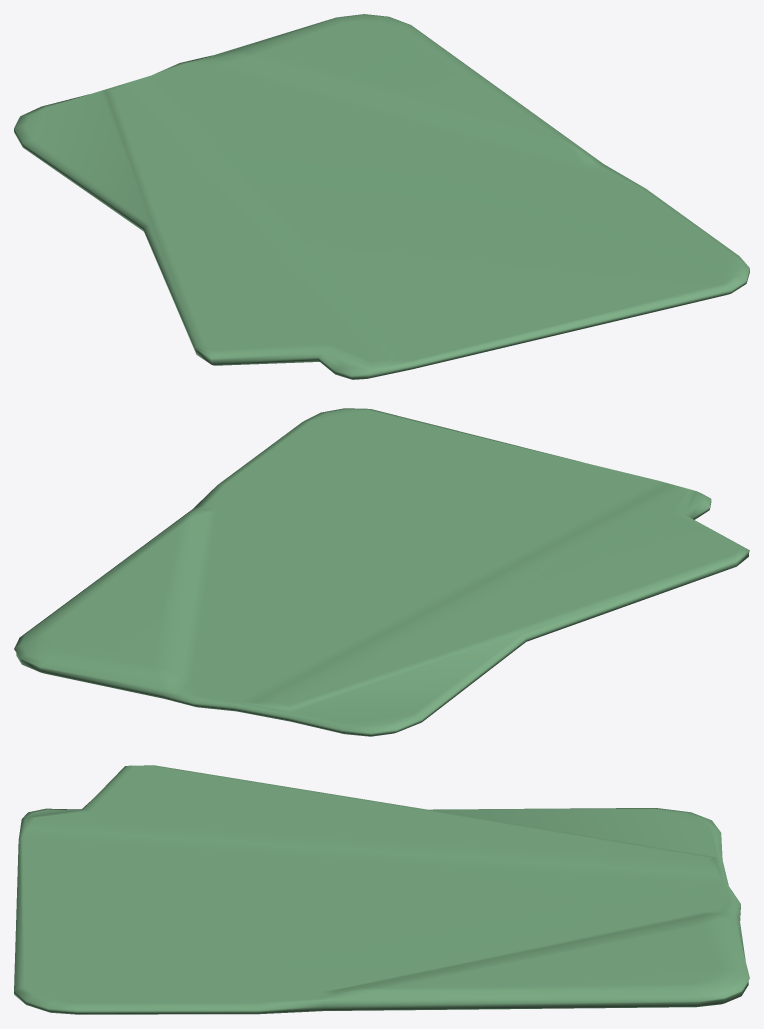
Rendered from S2_Doily.fbx.
3 views of the same model, one above another, from view 1: azimuth 30°, elevation 25°; view 2: azimuth 150°, elevation 25°; view 3: azimuth 270°, elevation 25° (orthographic). The views are drawn at different scales.
Visible parts, largest first — view 1: S2_Doily; view 2: S2_Doily; view 3: S2_Doily.
Boxes of the visible parts, <box> form: S2_Doily: <box>14,14,749,379</box>; S2_Doily: <box>14,408,749,736</box>; S2_Doily: <box>14,765,749,1014</box>.
Bounding box in the file's own units: 1769 × 57.7 × 2273.
